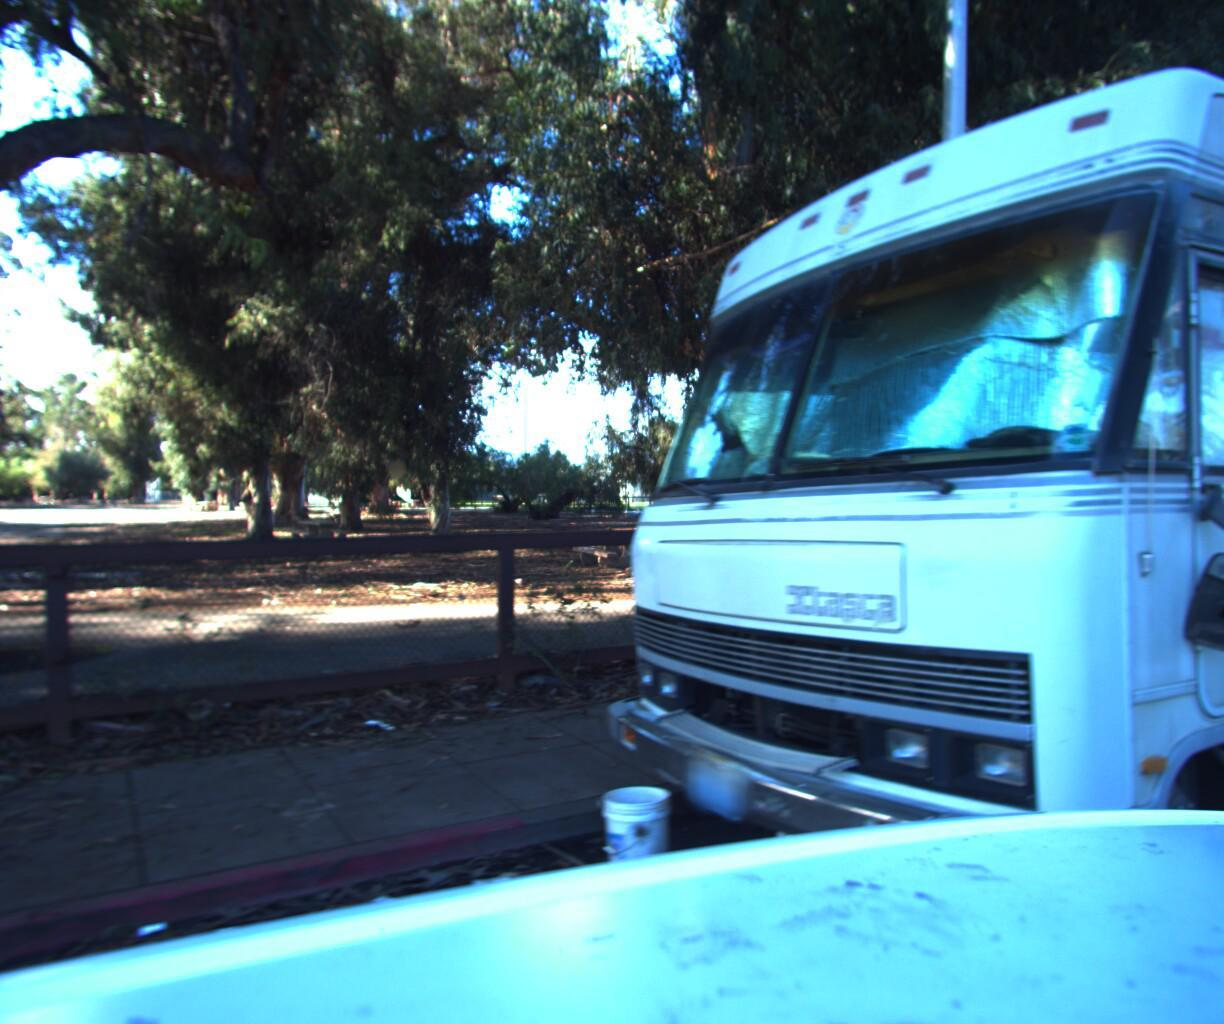other_vehicle: (510, 0, 1224, 1024)
